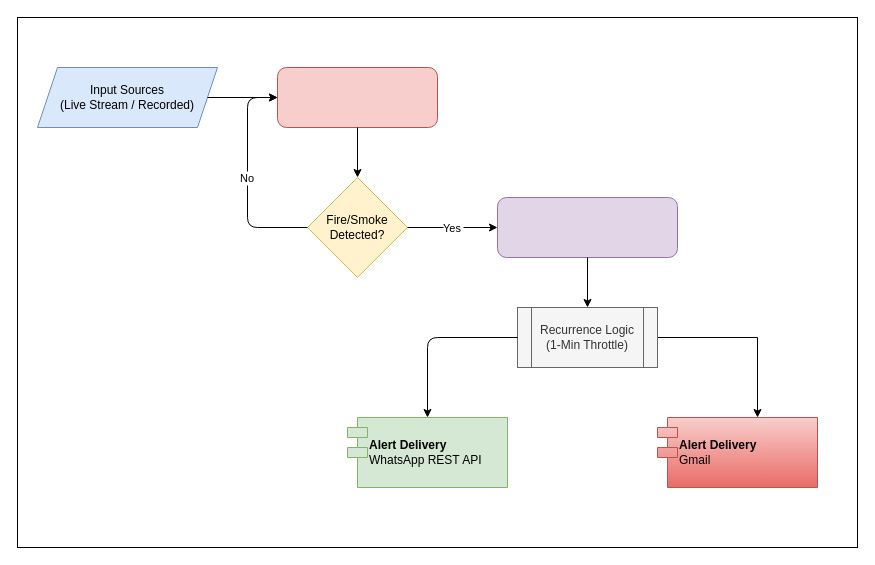
The diagram is 875 pixels wide and 565 high, and some of its shapes have lost their labels. The box of each missing label's shape, as (x1, y1, x2, y2) in pixels:
Detection Engine Python + YOLO (Detects Fire/Smoke): (276, 66, 438, 128)
Reasoning Engine OpenAI Multi-modal LLM (Severity & Context): (496, 196, 678, 258)
